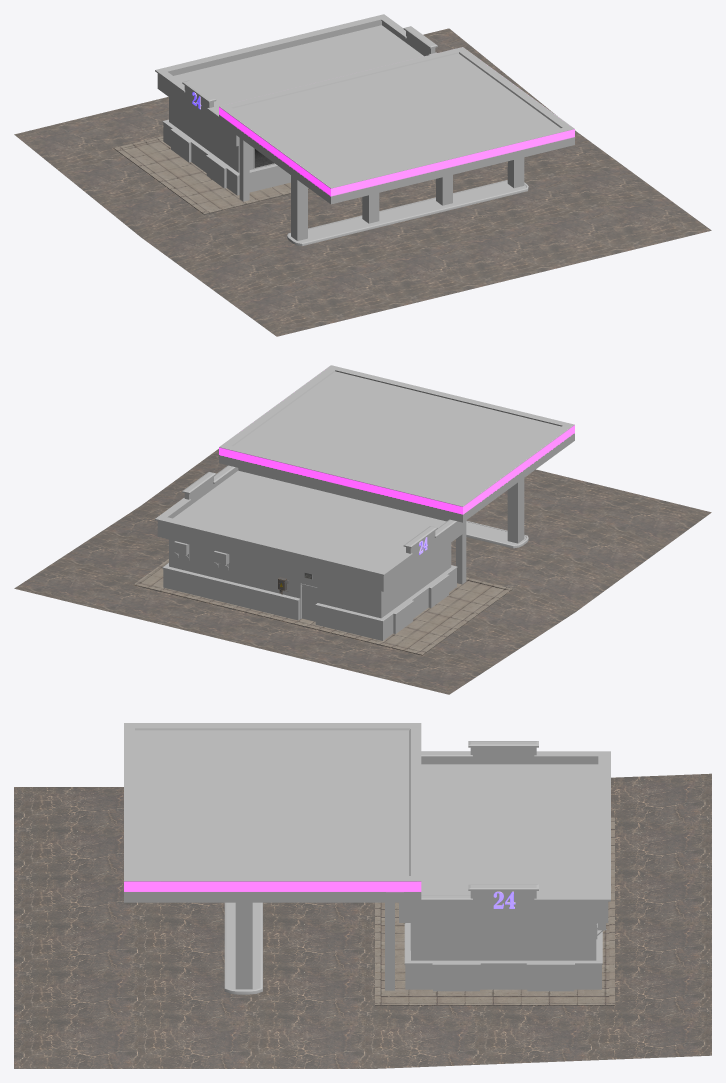
File: convenienceStore-.fbx
3 renders of one model, top to bottom at view 1: azimuth 30°, elevation 25°; view 2: azimuth 150°, elevation 25°; view 3: azimuth 270°, elevation 25°, orthographic. The views are drawn at different scales.
Parts seen in each view (by area): view 1: gasStation-Floor, sgasStation-Roof, convenienceStore-Roof, gasStation-GaspumpBase, convenienceStore-Walls.002, convenienceStore-Walls.006, convenienceStore-Walls.007, convenienceStore-Walls.011, gasStation-Beams, convenienceStore-Walls.003, convenienceStore-Walls.008, gasStation-Beams.001; view 2: gasStation-Floor, sgasStation-Roof, convenienceStore-Roof, convenienceStore-Walls.015, convenienceStore-Walls.002, convenienceStore-Walls.004, convenienceStore-Walls.007, convenienceStore-Walls.006, convenienceStore-Walls.011, convenienceStore-Walls.003, gasStation-Beams, gasStation-GaspumpBase (+3 smaller); view 3: gasStation-Floor, sgasStation-Roof, convenienceStore-Roof, convenienceStore-Walls.010, convenienceStore-Walls.003, convenienceStore-Walls.005, convenienceStore-Walls.007, gasStation-GaspumpBase, convenienceStore-Walls.002, gasStation-Beams.006, gasStation-Beams.007.
Boxes of the visible parts, box(x1,y1,x2,y2) form: gasStation-Floor: box(14, 28, 711, 336); sgasStation-Roof: box(219, 47, 574, 204); convenienceStore-Roof: box(173, 25, 423, 108); gasStation-GaspumpBase: box(287, 180, 528, 245); convenienceStore-Walls.002: box(156, 14, 383, 75); convenienceStore-Walls.006: box(164, 122, 239, 195); convenienceStore-Walls.007: box(155, 70, 236, 145); convenienceStore-Walls.011: box(169, 97, 238, 172); gasStation-Beams: box(291, 175, 307, 240); convenienceStore-Walls.003: box(381, 14, 437, 56); convenienceStore-Walls.008: box(239, 164, 290, 192); gasStation-Beams.001: box(239, 138, 249, 201); gasStation-Floor: box(14, 449, 711, 694); sgasStation-Roof: box(219, 365, 574, 522); convenienceStore-Roof: box(173, 470, 446, 569); convenienceStore-Walls.015: box(169, 539, 381, 618); convenienceStore-Walls.002: box(155, 517, 383, 591); convenienceStore-Walls.004: box(162, 565, 385, 640); convenienceStore-Walls.007: box(381, 519, 462, 591); convenienceStore-Walls.006: box(381, 565, 457, 639); convenienceStore-Walls.011: box(381, 543, 451, 617); convenienceStore-Walls.003: box(155, 465, 238, 518); gasStation-Beams: box(507, 478, 524, 543); gasStation-GaspumpBase: box(466, 520, 528, 548); gasStation-Floor: box(14, 773, 711, 1068); sgasStation-Roof: box(124, 723, 421, 902); convenienceStore-Roof: box(421, 764, 598, 894); convenienceStore-Walls.010: box(411, 923, 596, 960); convenienceStore-Walls.003: box(399, 884, 610, 922); convenienceStore-Walls.005: box(404, 960, 596, 991); convenienceStore-Walls.007: box(421, 741, 610, 764); gasStation-GaspumpBase: box(224, 902, 262, 994); convenienceStore-Walls.002: box(598, 751, 610, 899); gasStation-Beams.006: box(235, 902, 252, 989); gasStation-Beams.007: box(385, 902, 394, 990).
Size of the model in its own units: 2378 by 495 by 2487.
